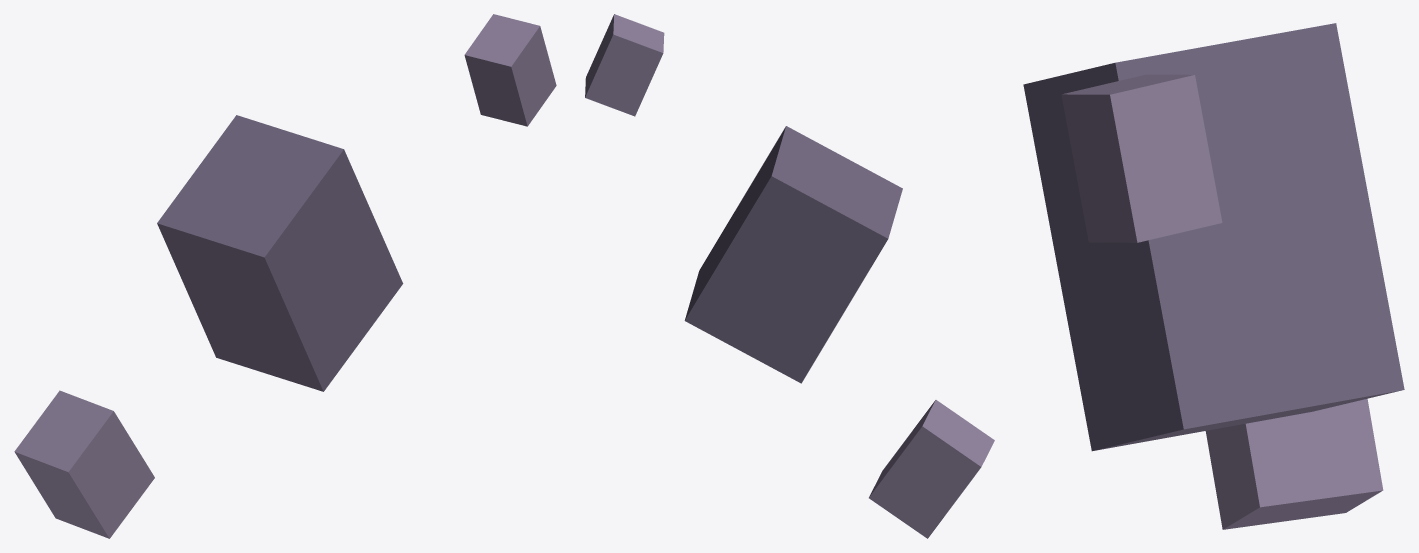
Rendered from IR_FloatShards.glb.
3 renders of one model, left to right at view 1: azimuth 30°, elevation 25°; view 2: azimuth 150°, elevation 25°; view 3: azimuth 270°, elevation 25°, orthographic. The views are drawn at different scales.
Parts seen in each view (by area): view 1: IR_FloatShards; view 2: IR_FloatShards; view 3: IR_FloatShards.
Boxes of the visible parts, left/top/right/bottom form: IR_FloatShards: left=14, top=14, right=556, bottom=538; IR_FloatShards: left=585, top=14, right=994, bottom=538; IR_FloatShards: left=1023, top=23, right=1404, bottom=529.
Bounding box in the file's own units: 14.08 × 11.97 × 5.29.
Materials: 1 (1 with a texture image).
